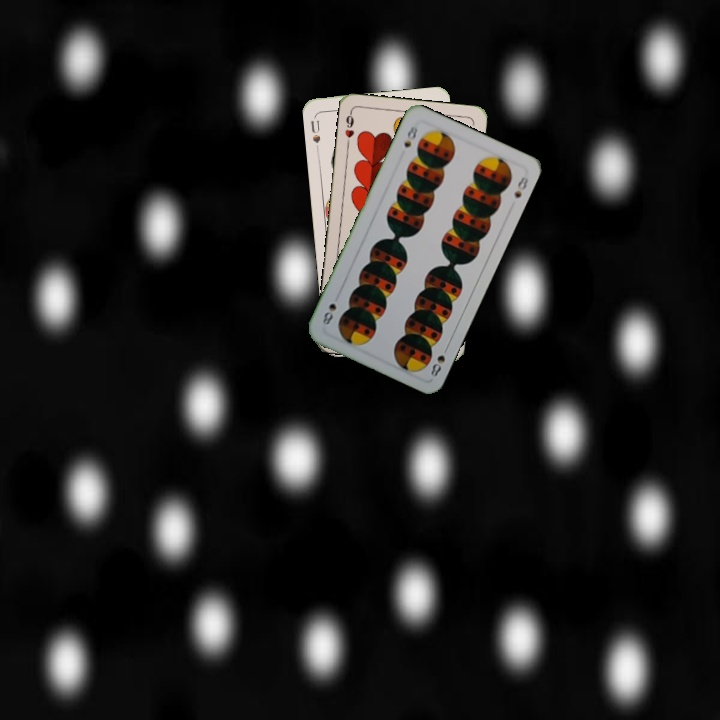H9: (341, 108, 356, 149)
S8: (426, 341, 451, 380), (400, 119, 420, 150)
SU: (307, 113, 323, 153)
